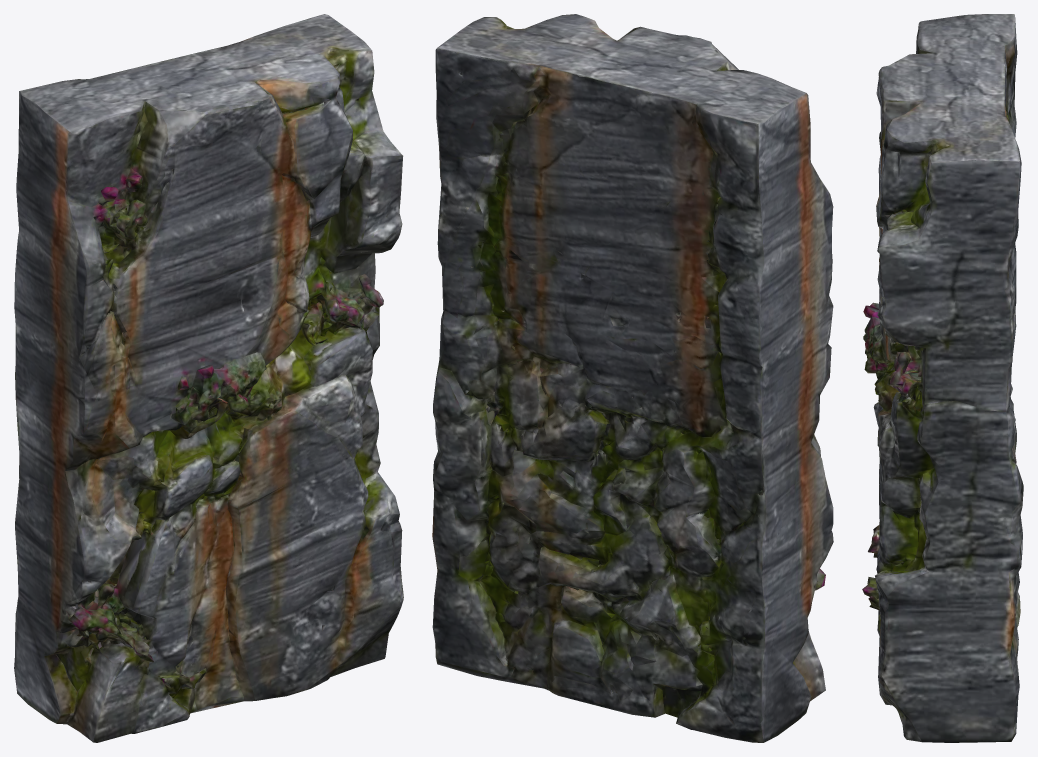
Rendered from cliff-01-web.glb.
3 views of the same model, side by side, from view 1: azimuth 30°, elevation 25°; view 2: azimuth 150°, elevation 25°; view 3: azimuth 270°, elevation 25° (orthographic). The views are drawn at different scales.
Visible parts, largest first — view 1: geometry_0; view 2: geometry_0; view 3: geometry_0.
Boxes of the visible parts, x1,y1,x2,y2 form: geometry_0: [14, 14, 403, 742]; geometry_0: [432, 14, 833, 742]; geometry_0: [862, 14, 1023, 742].
Bounding box in the file's own units: 1.19 × 2.13 × 0.5356.
Materials: 1 (1 with a texture image).
